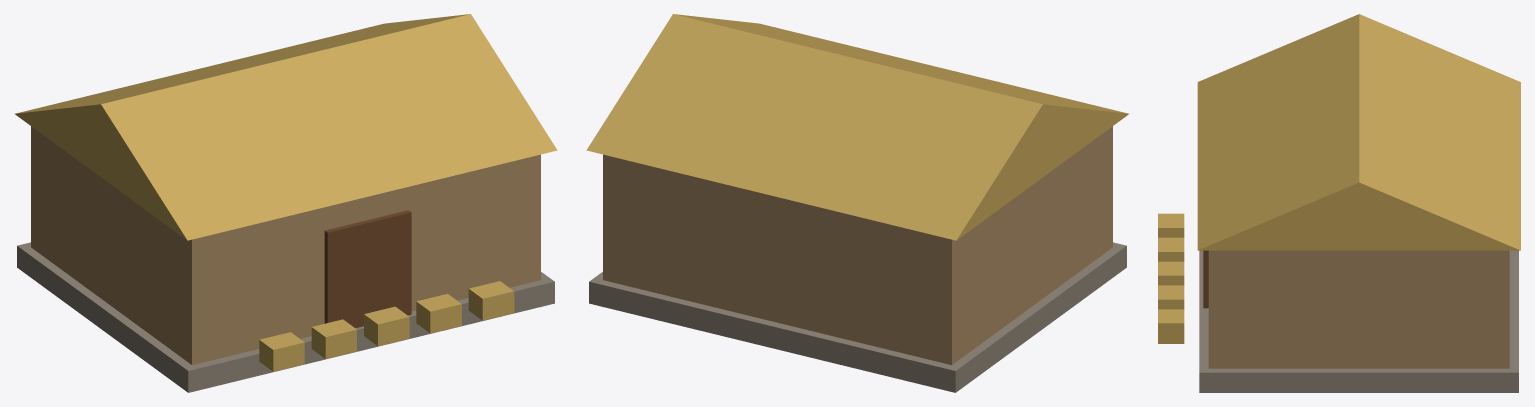
The model's file is granary.glb.
3 views of the same model, side by side, from view 1: azimuth 30°, elevation 25°; view 2: azimuth 150°, elevation 25°; view 3: azimuth 270°, elevation 25° (orthographic). The views are drawn at different scales.
Parts seen in each view (by area): view 1: Granary; view 2: Granary; view 3: Granary.
Boxes of the visible parts, left/top/right/bottom form: Granary: left=15, top=14, right=557, bottom=392; Granary: left=586, top=14, right=1128, bottom=392; Granary: left=1158, top=14, right=1520, bottom=392.
Size of the model in its own units: 10.6 by 6.2 by 9.65.
